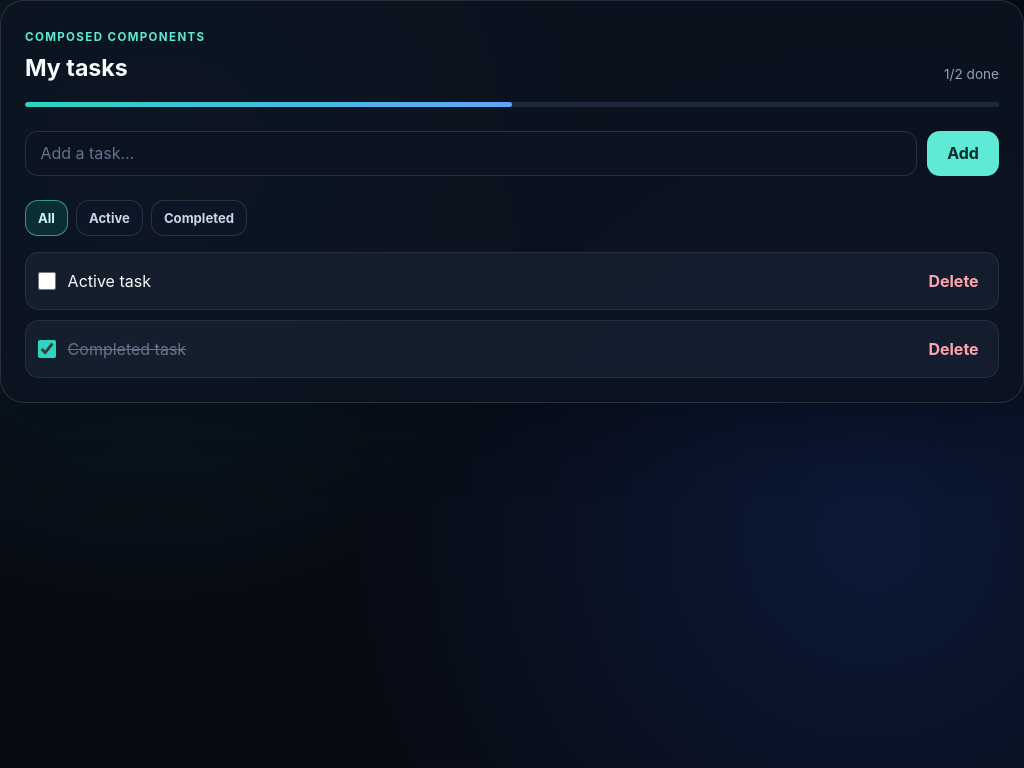
Test case: TodoList › derives active and completed views from the same todo list
Click the button "Active".
click(109, 218)  # box [76,200,143,236]
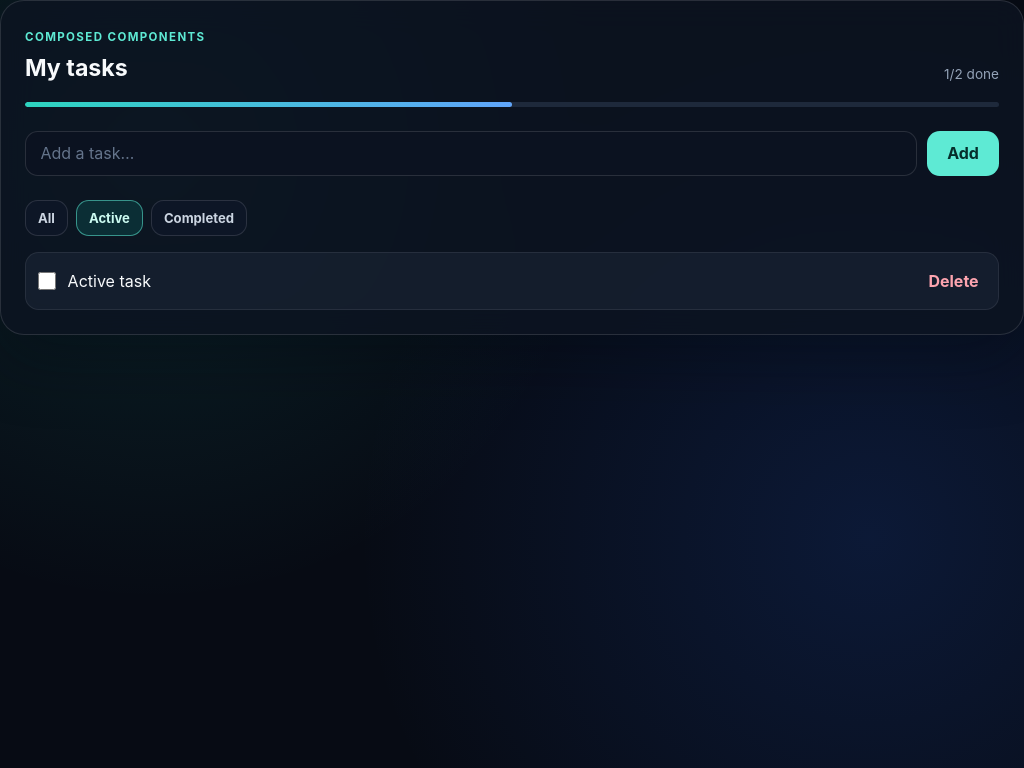
Expected: the text "Active task" is shown, [68,271,151,291]
Now the text "Completed task" is gone
Click the button "Completed".
click(199, 218)  # box [151,200,247,236]
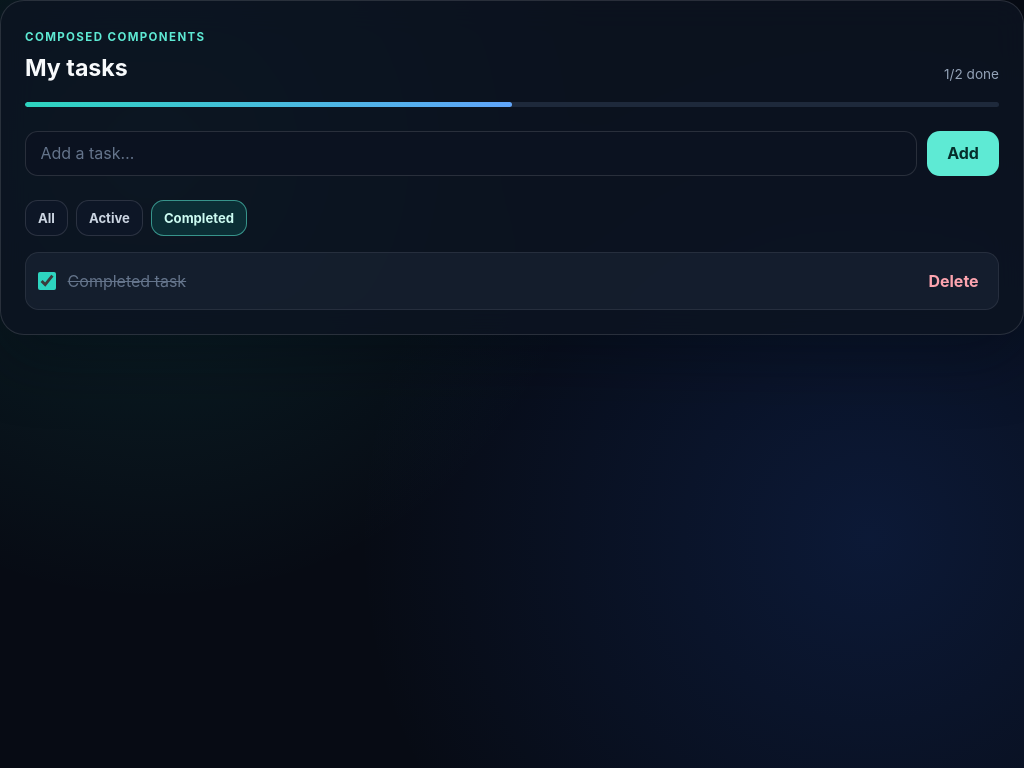
Now the text "Active task" is gone
Now the text "Completed task" is shown, box [68,271,186,291]
